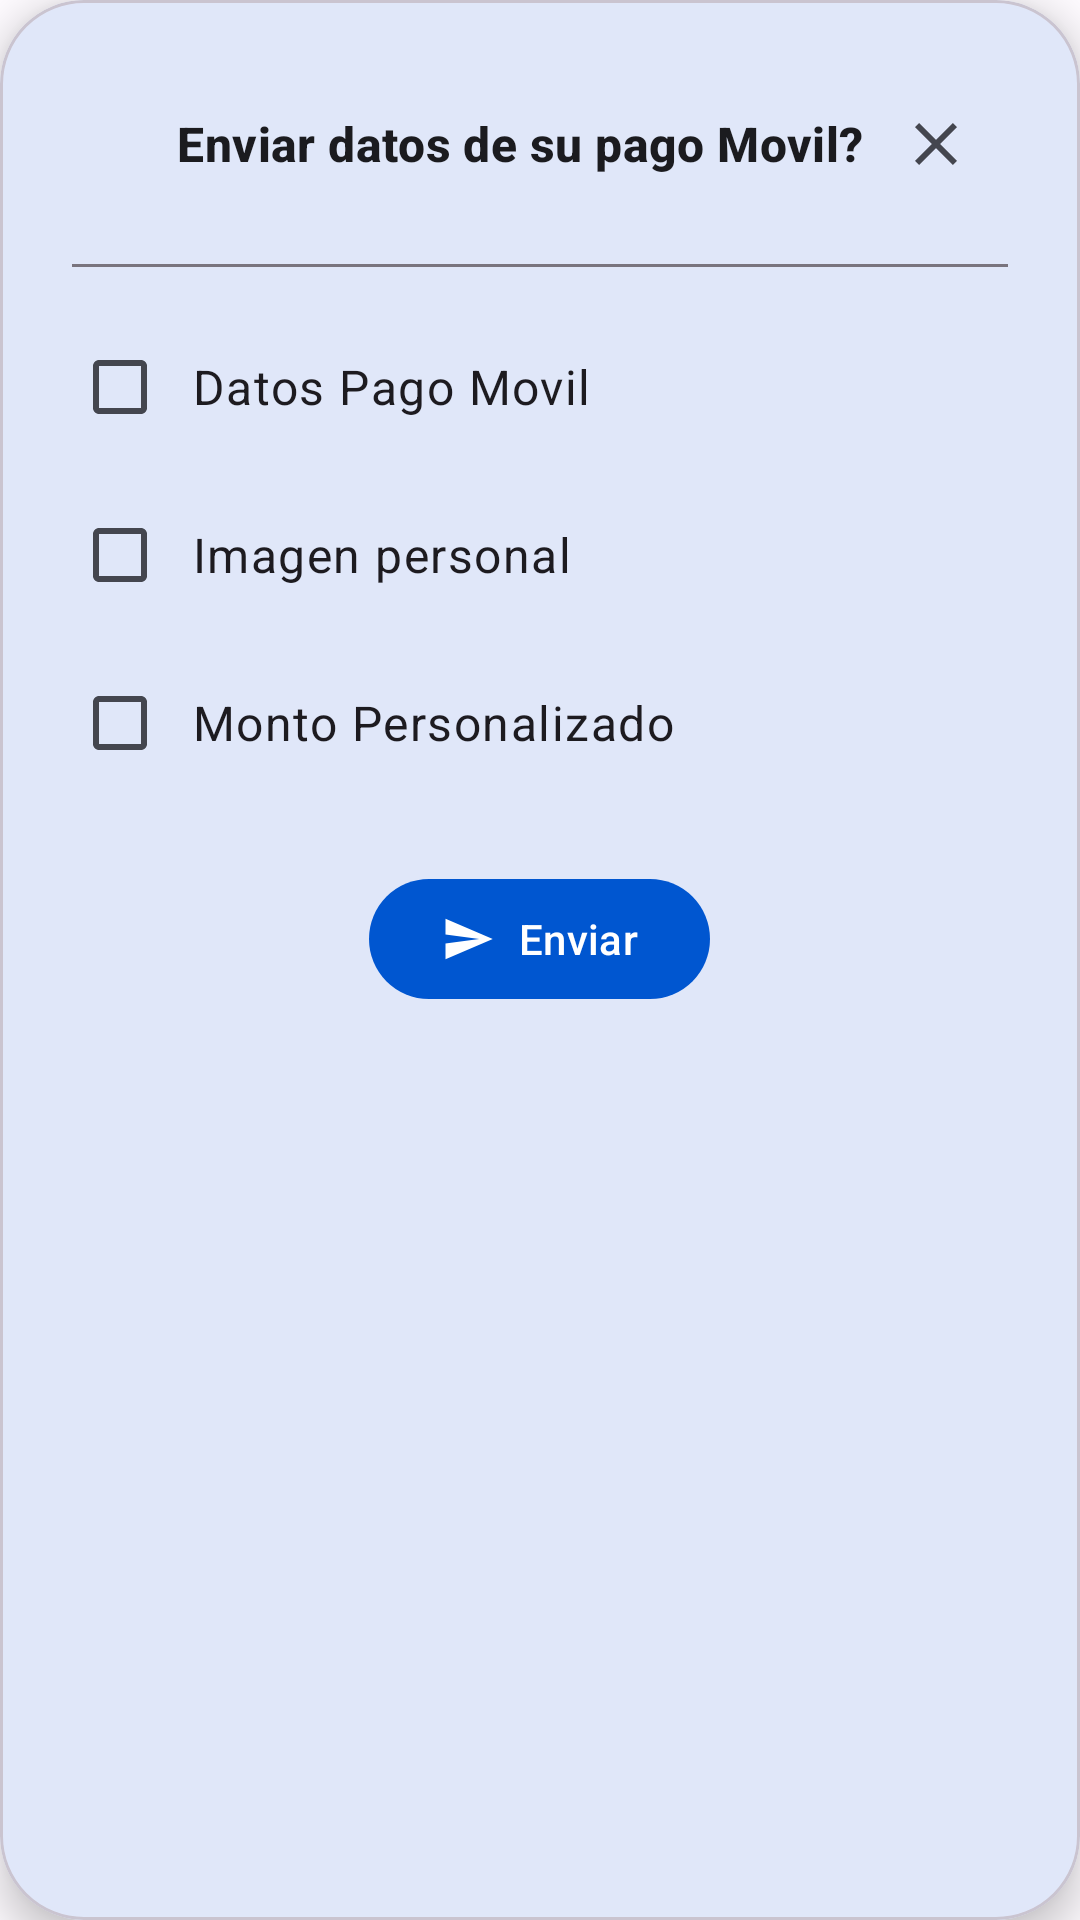

Named icons in this screenshot (1080×1920) and their bounding boxes, region(x1, y1, x2, y2):
close: region(915, 123, 957, 165)
